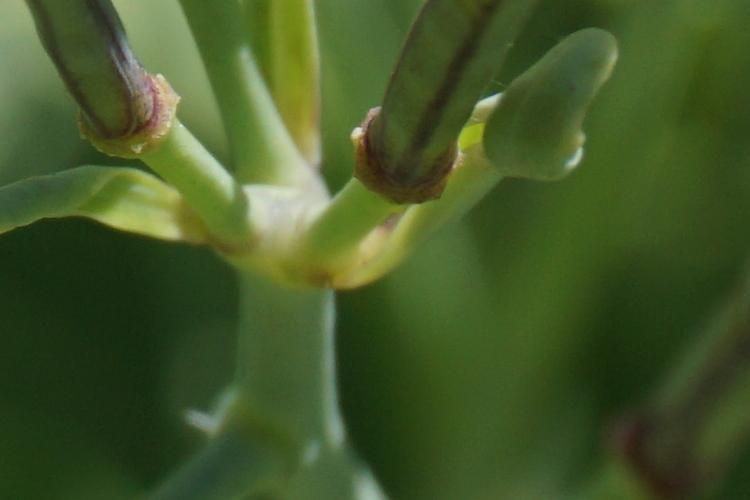pod: (35, 5, 190, 166), (380, 23, 496, 207)
